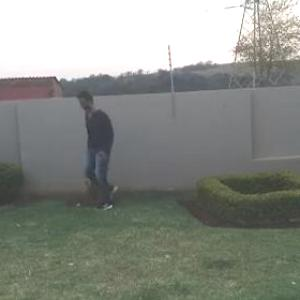follow: (86, 91, 120, 206)
